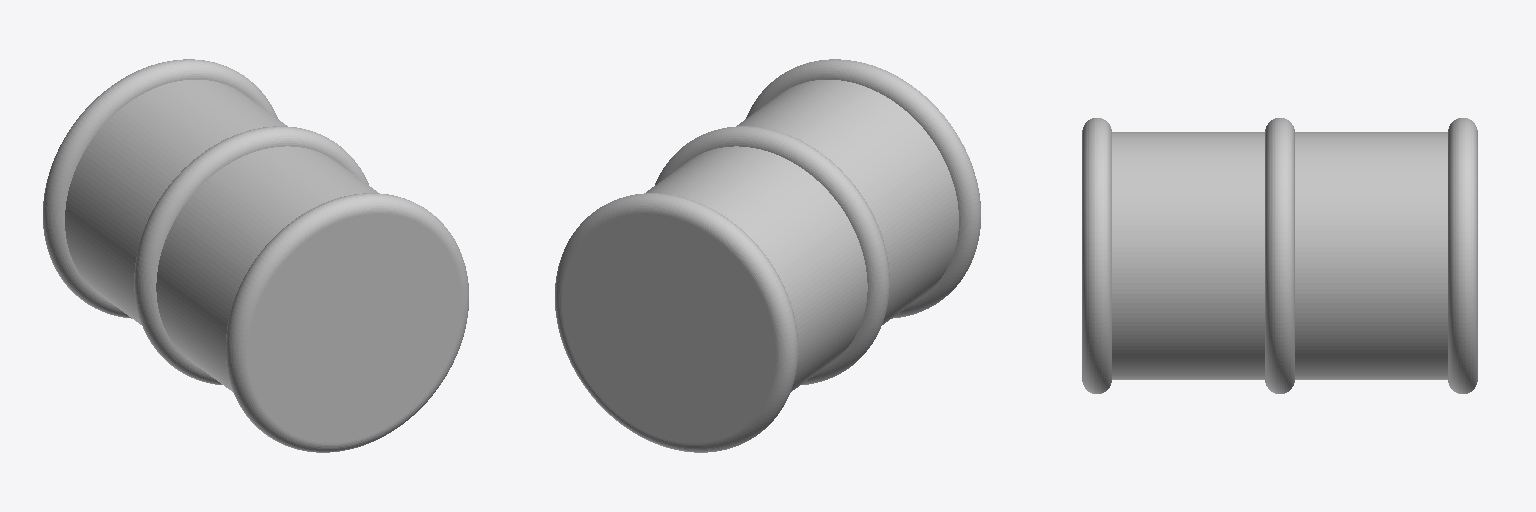
Rendered from Barrel.obj.
3 views of the same model, side by side, from view 1: azimuth 30°, elevation 25°; view 2: azimuth 150°, elevation 25°; view 3: azimuth 270°, elevation 25° (orthographic).
Parts seen in each view (by area): view 1: Barrel1; view 2: Barrel1; view 3: Barrel1.
Part boxes in pixels (x1,y1,x2,y2): Barrel1: (43,59,468,452); Barrel1: (555,59,980,452); Barrel1: (1082,118,1477,393).
Size of the model in its own units: 56 by 55.99 by 80.